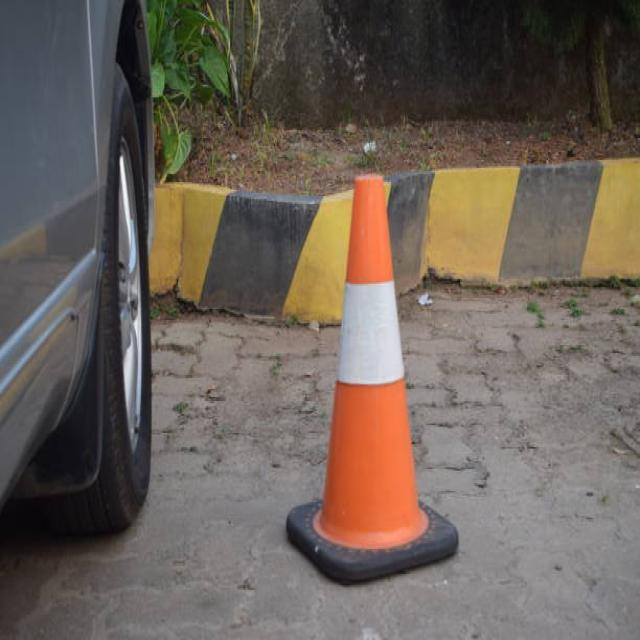Traffic Cone: (276, 157, 466, 596)
